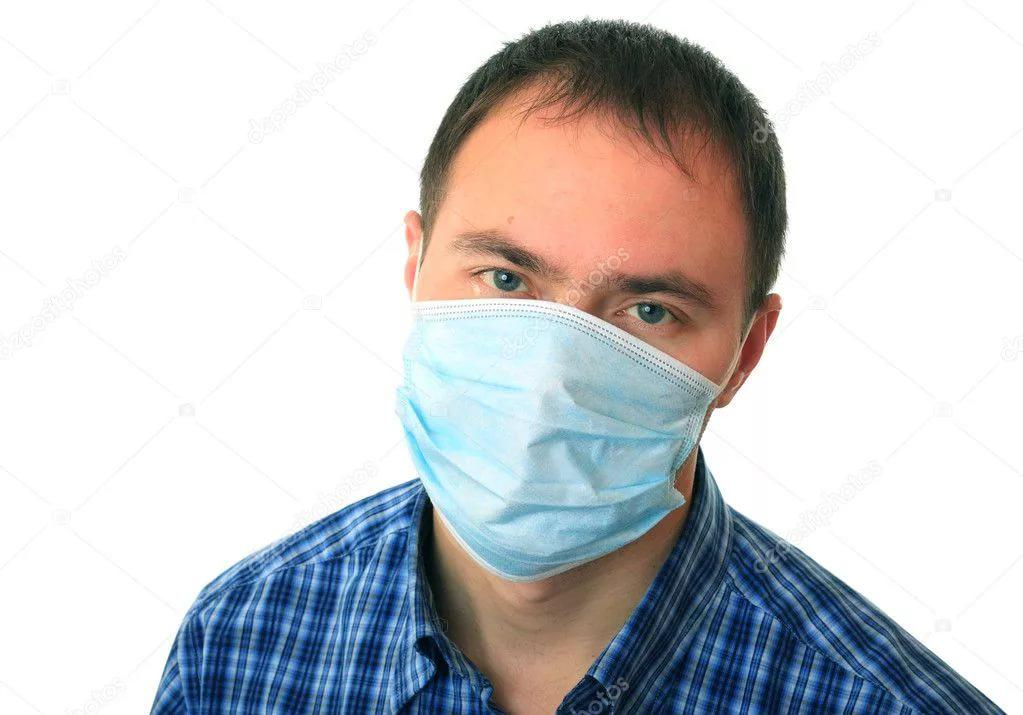mask: (399, 167, 758, 572)
